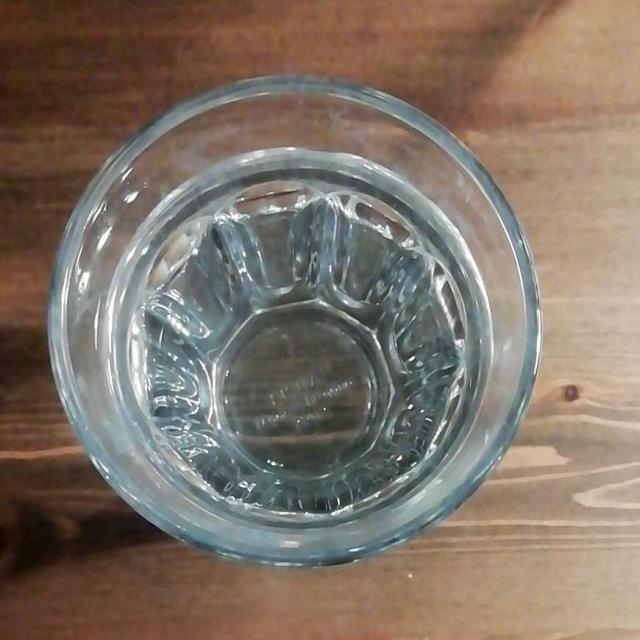water: (189, 308, 433, 509)
